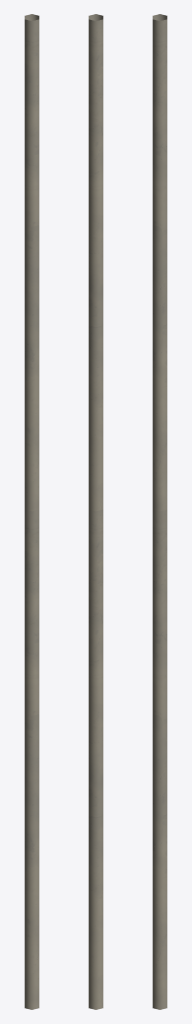
3 renders of one model, left to right at view 1: azimuth 30°, elevation 25°; view 2: azimuth 210°, elevation 25°; view 3: azimuth 330°, elevation 25°, orthographic.
Parts seen in each view (by area): view 1: MB_Tube_B_4m; view 2: MB_Tube_B_4m; view 3: MB_Tube_B_4m.
Boxes of the visible parts, <box> form: MB_Tube_B_4m: <box>24,14,39,1009</box>; MB_Tube_B_4m: <box>88,14,103,1009</box>; MB_Tube_B_4m: <box>152,14,167,1009</box>.
Size of the model in its own units: 6.2 by 400 by 5.37.
